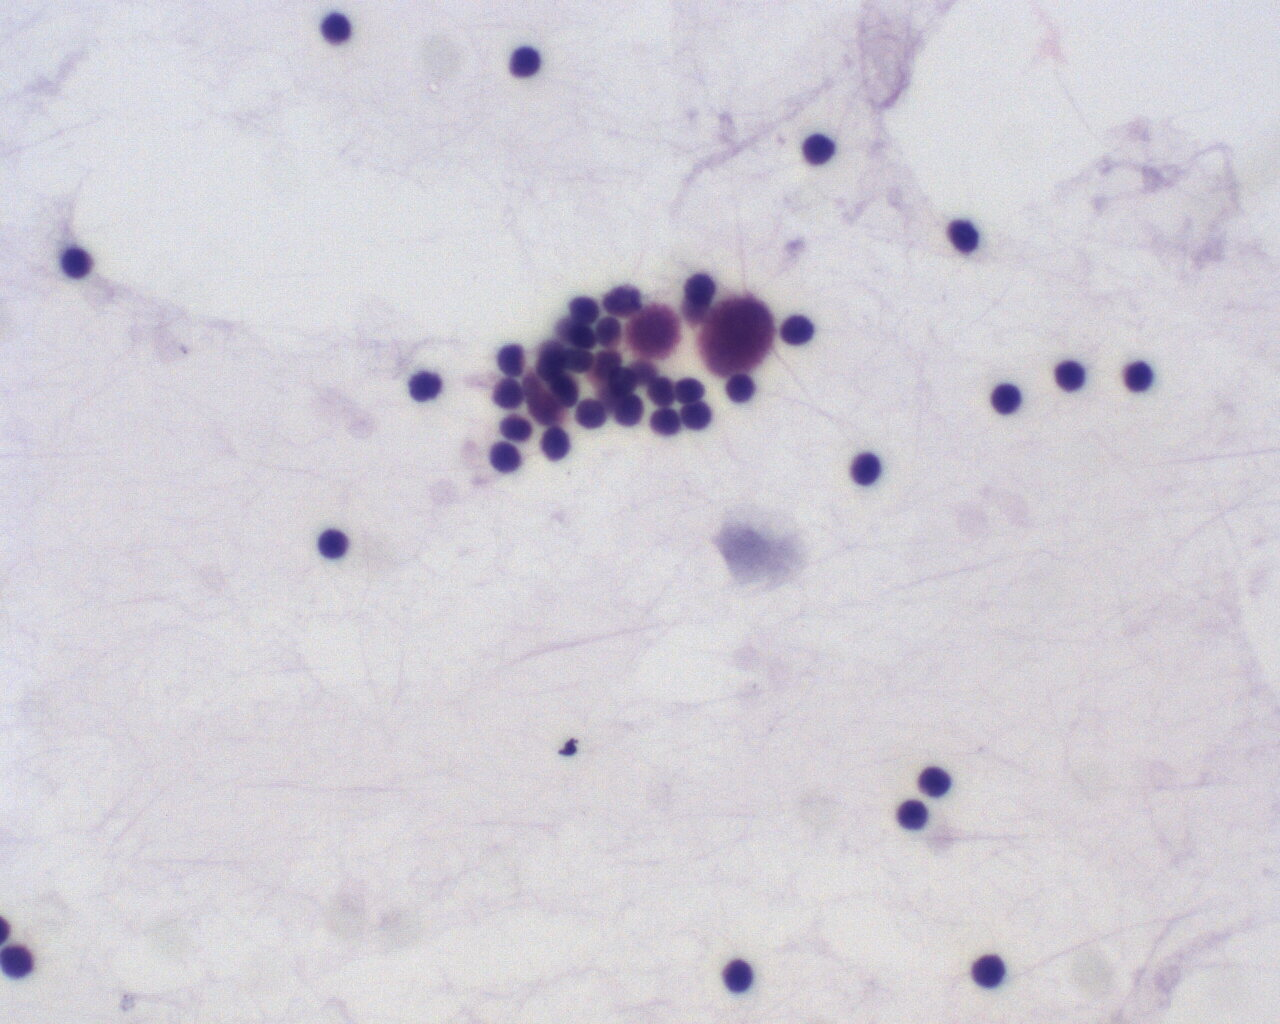lymph: (713, 945, 769, 1001), (846, 445, 892, 496), (799, 123, 841, 174), (55, 243, 104, 286), (311, 521, 357, 566), (776, 309, 822, 354), (965, 949, 1009, 994), (912, 761, 957, 804), (1117, 353, 1162, 396), (499, 42, 545, 84), (938, 212, 980, 257), (891, 795, 935, 834), (490, 338, 530, 378), (987, 380, 1026, 422), (1053, 353, 1091, 396), (487, 434, 525, 475), (320, 8, 360, 45)
